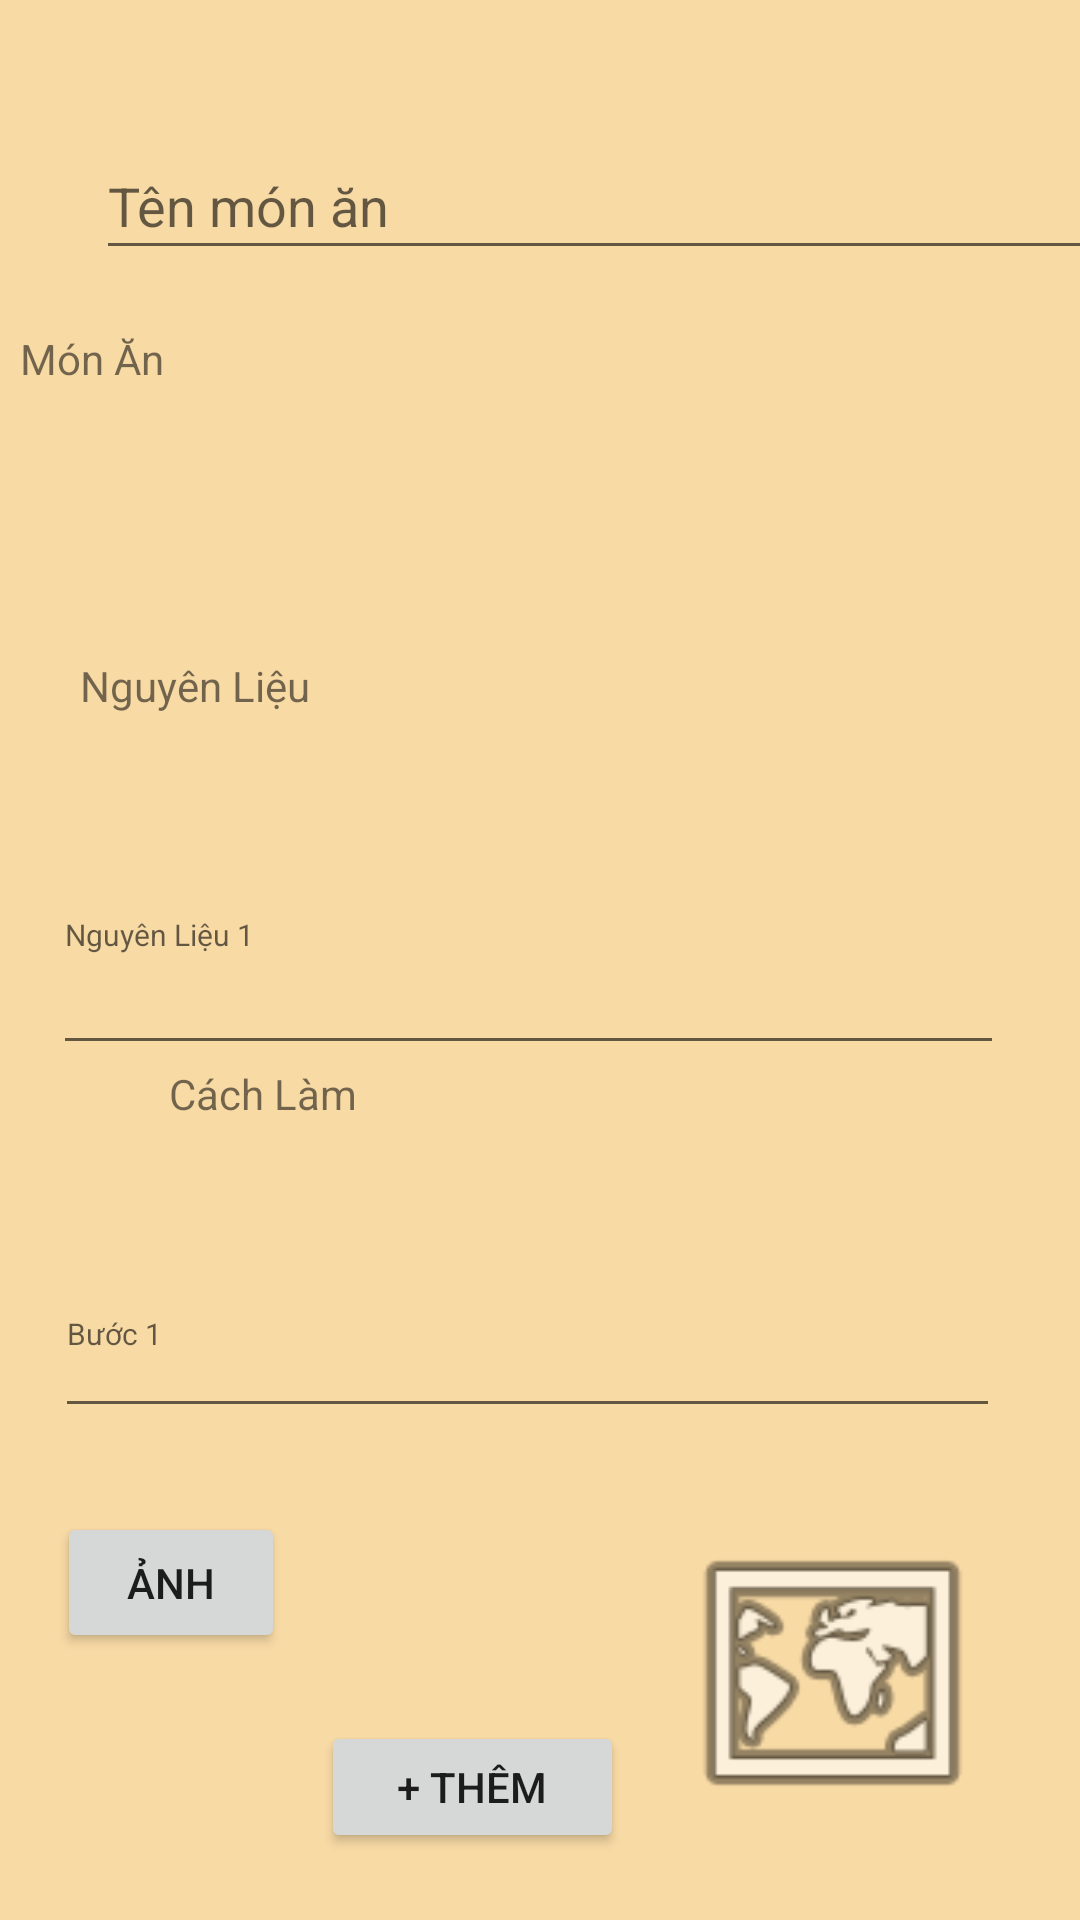

Locate icon controls on the screen. Image size 1080px x 1920px, boxes as (x1, y1, x2, y2).
mapmode: (705, 1561, 961, 1785)
